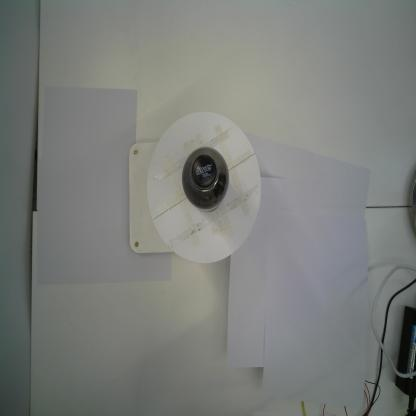Drink: (181, 145, 231, 215)
